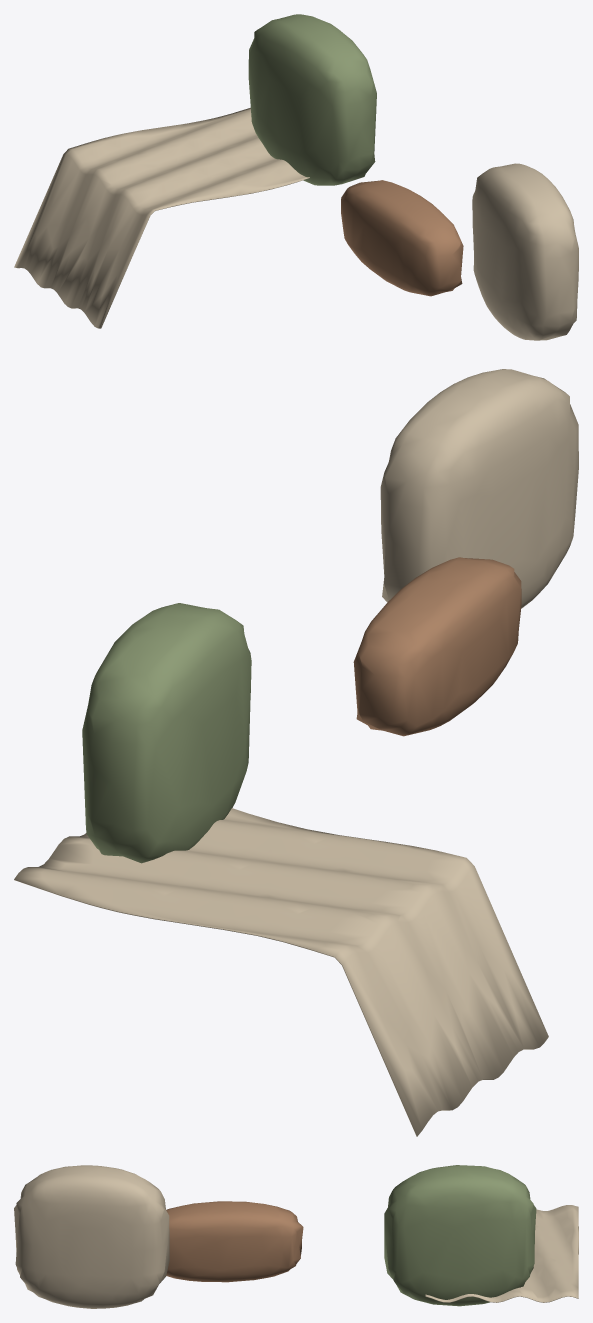
File: sofa-linen-light.glb
3 views of the same model, one above another, from view 1: azimuth 30°, elevation 25°; view 2: azimuth 150°, elevation 25°; view 3: azimuth 270°, elevation 25° (orthographic). The views are drawn at different scales.
Visible parts, largest first — view 1: Mood linen oat, Mood linen sage, Mood linen tobacco; view 2: Mood linen oat, Mood linen sage, Mood linen tobacco; view 3: Mood linen oat, Mood linen sage, Mood linen tobacco.
Part boxes in pixels (left/top/right/bottom): Mood linen oat: left=14, top=108, right=578, bottom=340; Mood linen sage: left=248, top=14, right=376, bottom=185; Mood linen tobacco: left=341, top=180, right=463, bottom=296; Mood linen oat: left=14, top=369, right=578, bottom=1136; Mood linen sage: left=82, top=603, right=251, bottom=863; Mood linen tobacco: left=353, top=557, right=521, bottom=736; Mood linen oat: left=14, top=1165, right=578, bottom=1308; Mood linen sage: left=384, top=1165, right=536, bottom=1306; Mood linen tobacco: left=166, top=1201, right=303, bottom=1282.
Size of the model in its own units: 0.7856 by 0.6571 by 1.62.
